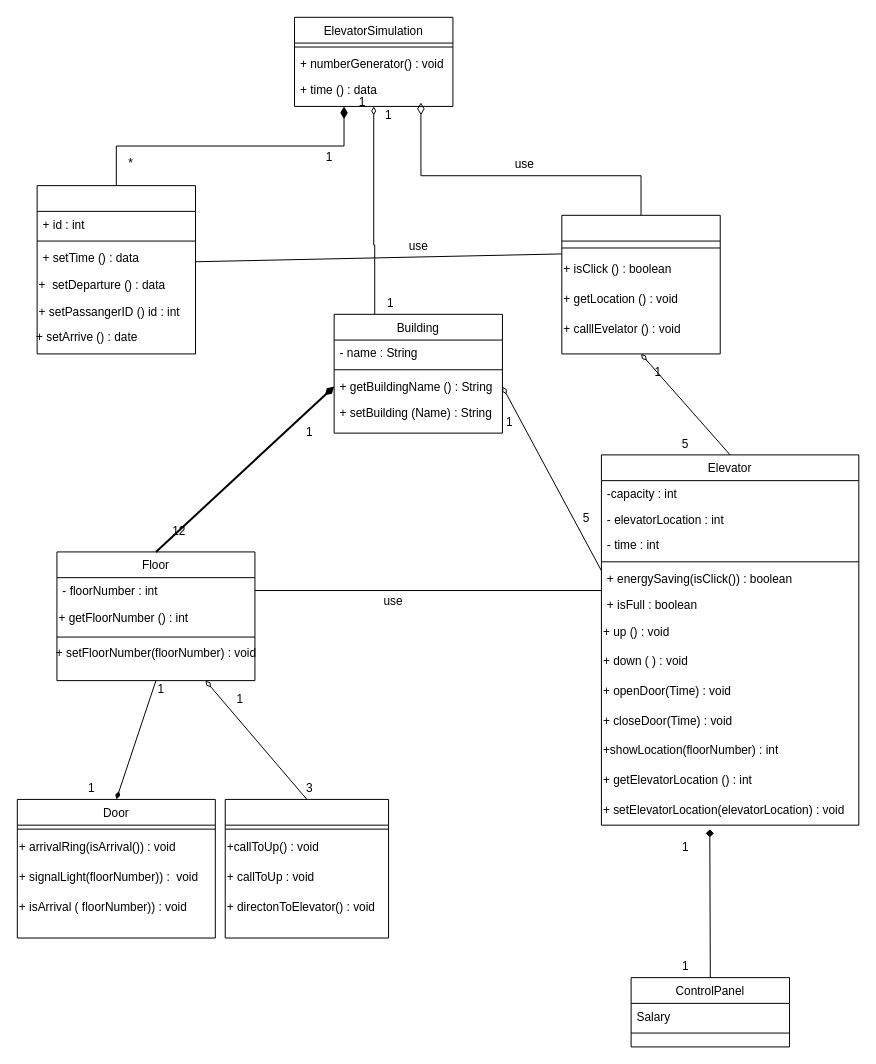
This 876x1064 diagram has some shape labels left out. The shapes that lost their labels are listed below. From the top down, each one's box as (x1, y1, x2, y2) in pixels, then its label:
(36, 185, 196, 354): Passenger
(561, 214, 720, 354): Programmer
(224, 798, 389, 938): CallButton
